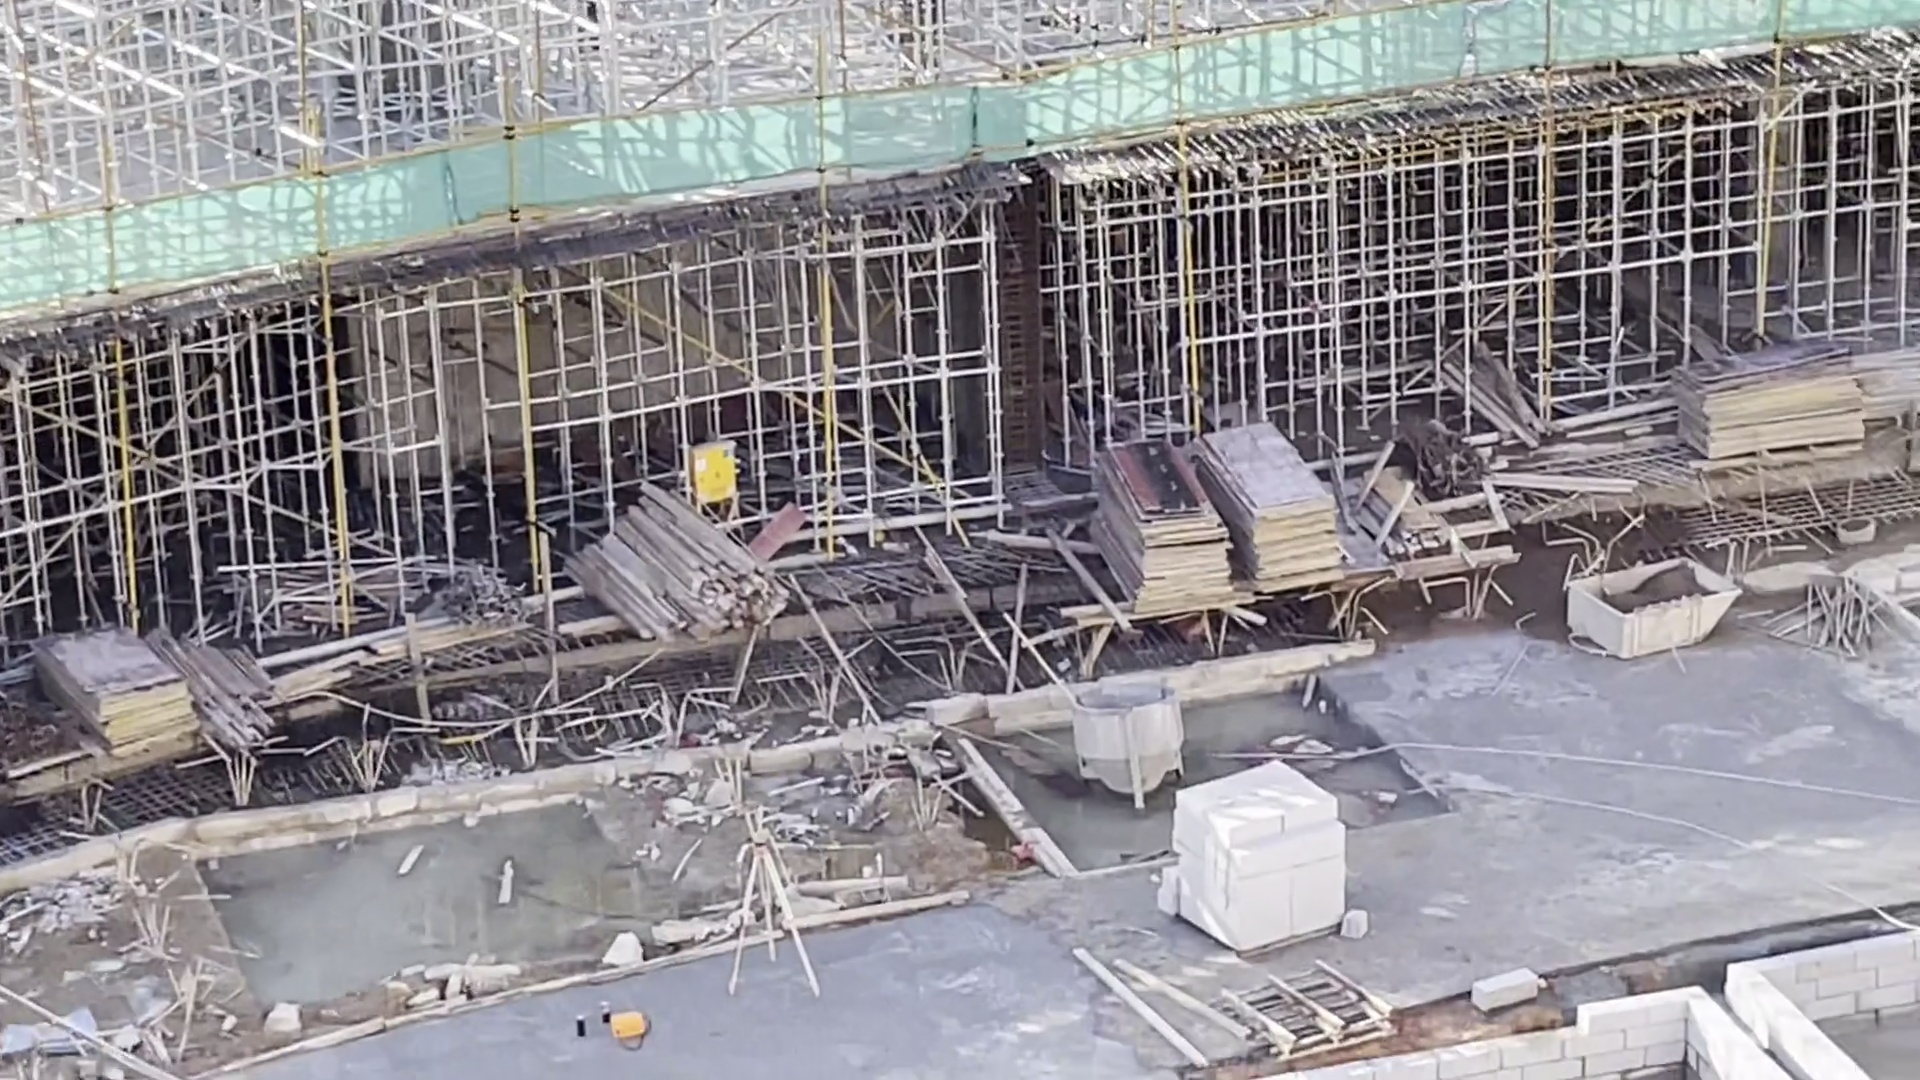board: (1067, 431, 1237, 624), (1191, 419, 1352, 595), (1667, 334, 1874, 462), (34, 620, 203, 769)
brick: (1171, 764, 1354, 953)
ebox: (688, 436, 740, 512)
hopper: (1559, 556, 1741, 661), (1073, 673, 1185, 808)
wood: (559, 477, 789, 645), (191, 630, 287, 769)
